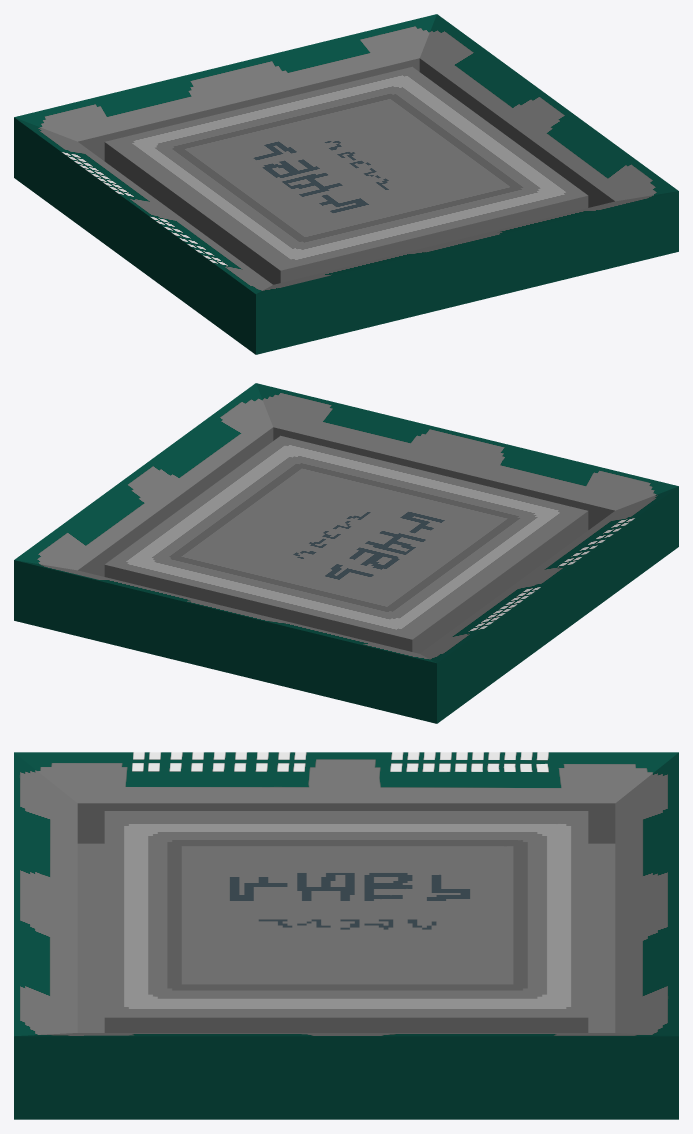
The model's file is Processador_M.fbx.
The picture shows the model from 3 angles, top to bottom: view 1: azimuth 30°, elevation 25°; view 2: azimuth 150°, elevation 25°; view 3: azimuth 270°, elevation 25°; orthographic projection. The views are drawn at different scales.
Visible parts, largest first — view 1: Processador.M; view 2: Processador.M; view 3: Processador.M.
Part boxes in pixels (x1=…): Processador.M: x1=14, y1=14, x2=678, y2=354; Processador.M: x1=14, y1=383, x2=678, y2=723; Processador.M: x1=14, y1=752, x2=678, y2=1119.
Size of the model in its own units: 224 by 30.66 by 222.
